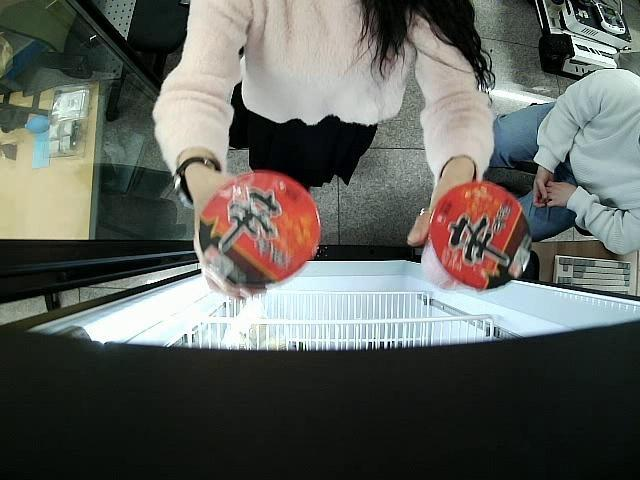02_shinRamen_S: (198, 174, 320, 288), (421, 183, 532, 292)
